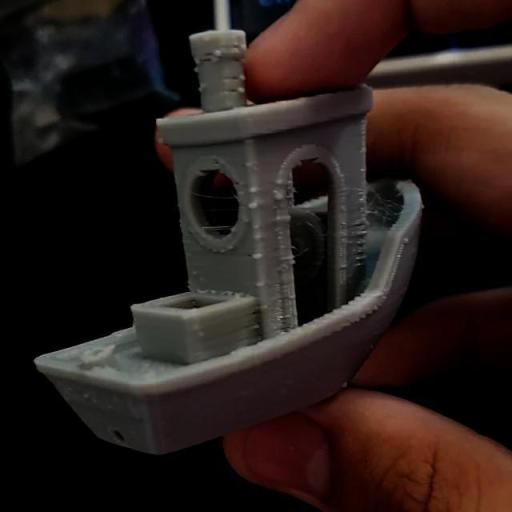blobs: (246, 246, 264, 262), (252, 278, 268, 292), (273, 190, 288, 204), (274, 174, 288, 188), (245, 200, 259, 213), (245, 185, 262, 195)
